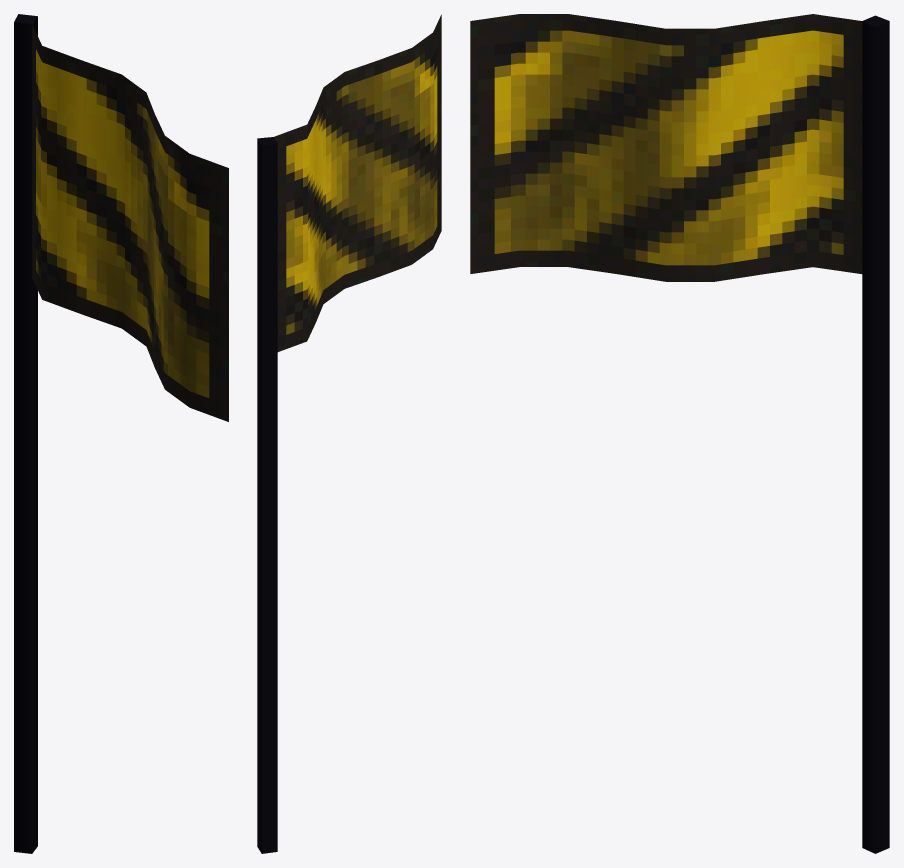
3 renders of one model, left to right at view 1: azimuth 30°, elevation 25°; view 2: azimuth 150°, elevation 25°; view 3: azimuth 270°, elevation 25°, orthographic. The views are drawn at different scales.
Visible parts, largest first — view 1: Mp_obj_028; view 2: Mp_obj_028; view 3: Mp_obj_028.
Boxes of the visible parts, box(x1,y1,x2,y2) form: Mp_obj_028: box(14, 14, 228, 853); Mp_obj_028: box(257, 14, 441, 853); Mp_obj_028: box(470, 14, 889, 853).
Size of the model in its own units: 0.0566 by 1.49 by 0.6836.
2 materials, 2 textured.
